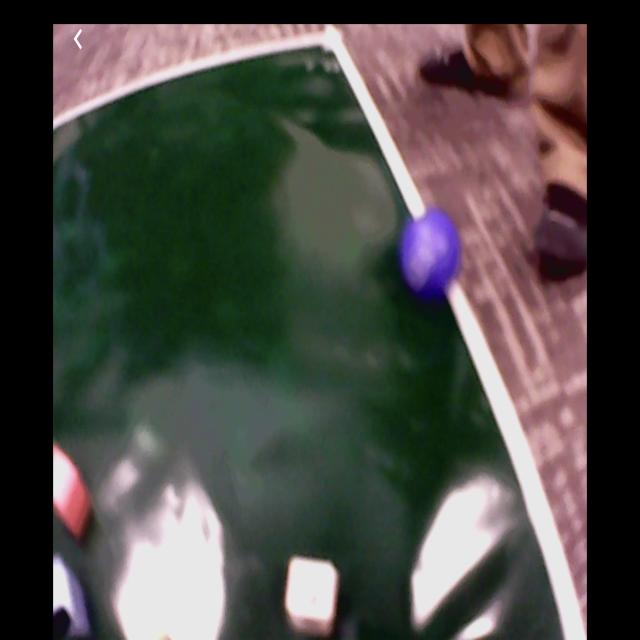ball: (404, 203, 459, 298)
